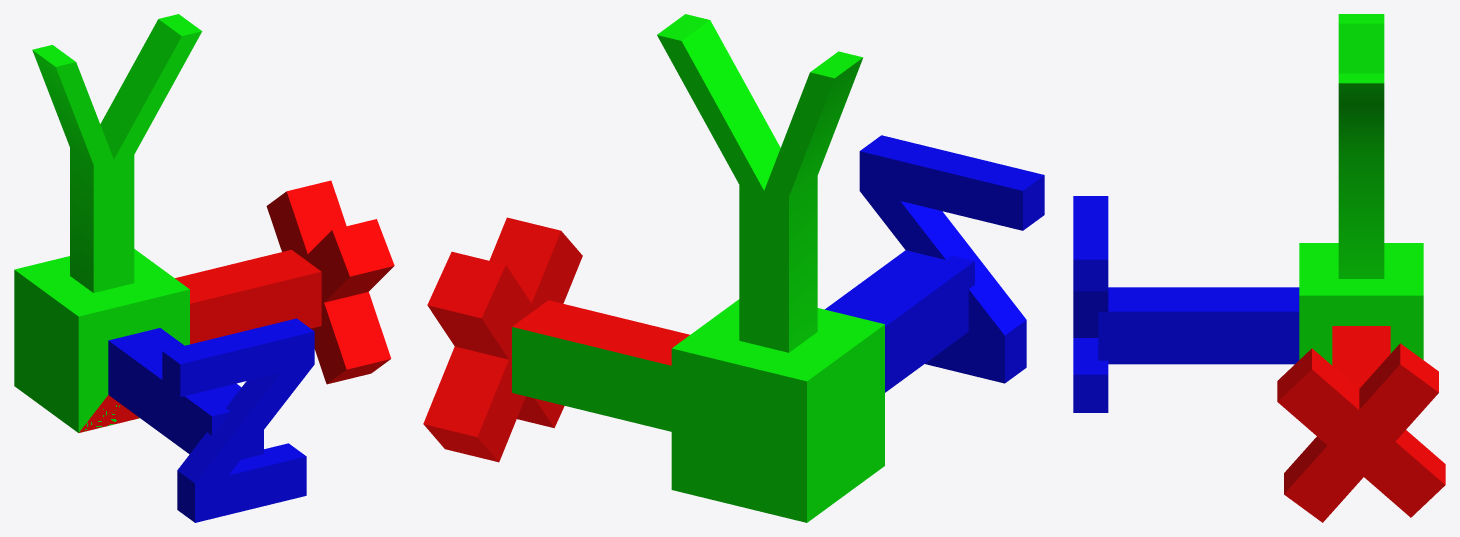
File: Axis.fbx
3 renders of one model, left to right at view 1: azimuth 30°, elevation 25°; view 2: azimuth 150°, elevation 25°; view 3: azimuth 270°, elevation 25°, orthographic. The views are drawn at different scales.
Visible parts, largest first — view 1: pCube5; view 2: pCube5; view 3: pCube5.
Part boxes in pixels (left/top/right/bottom): pCube5: left=14, top=14, right=394, bottom=522; pCube5: left=423, top=14, right=1044, bottom=522; pCube5: left=1073, top=14, right=1445, bottom=522.
Bounding box in the file's own units: 2.87 × 3.22 × 2.99.
Materials: 1 (1 with a texture image).
